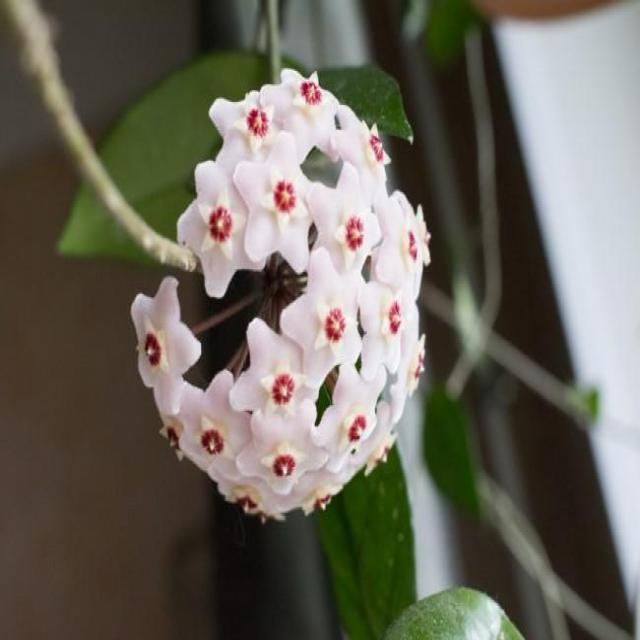organic waste: (129, 66, 432, 518)
